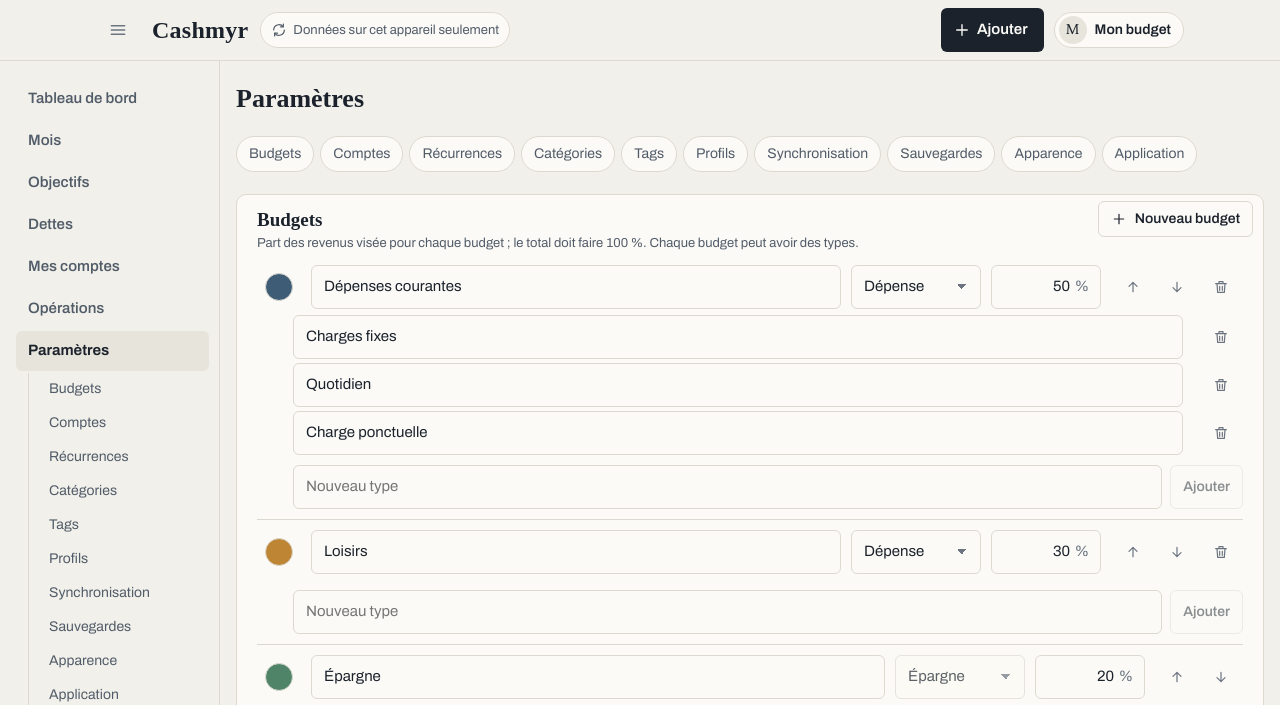
Test: budget › nouveau budget : un nom, une nature, 0 % ; ses types s'ajoutent et se renomment (décisions 71 et 72)
This screenshot has width=1280, height=705.
Click the button "Nouveau budget": (1175, 219) x1=1098 y1=201 x2=1253 y2=237
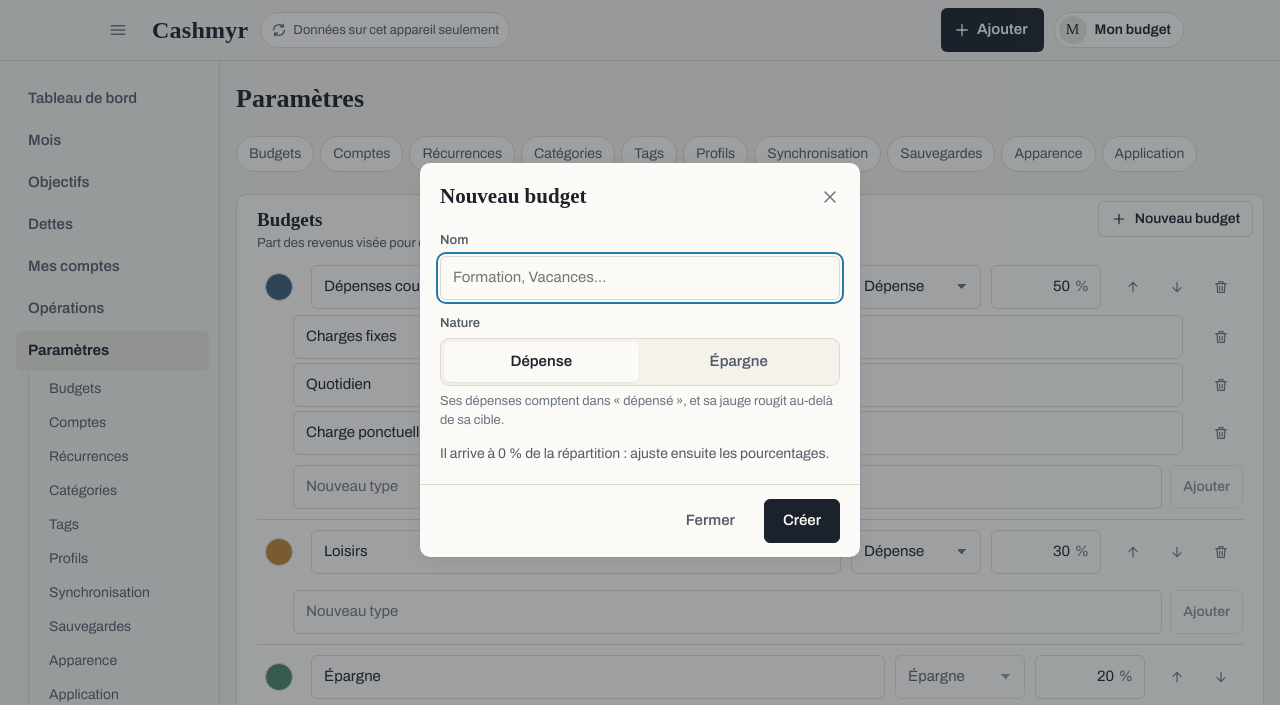
In the field labelled "Nom": (640, 278) x1=440 y1=256 x2=840 y2=300, type "Formation"
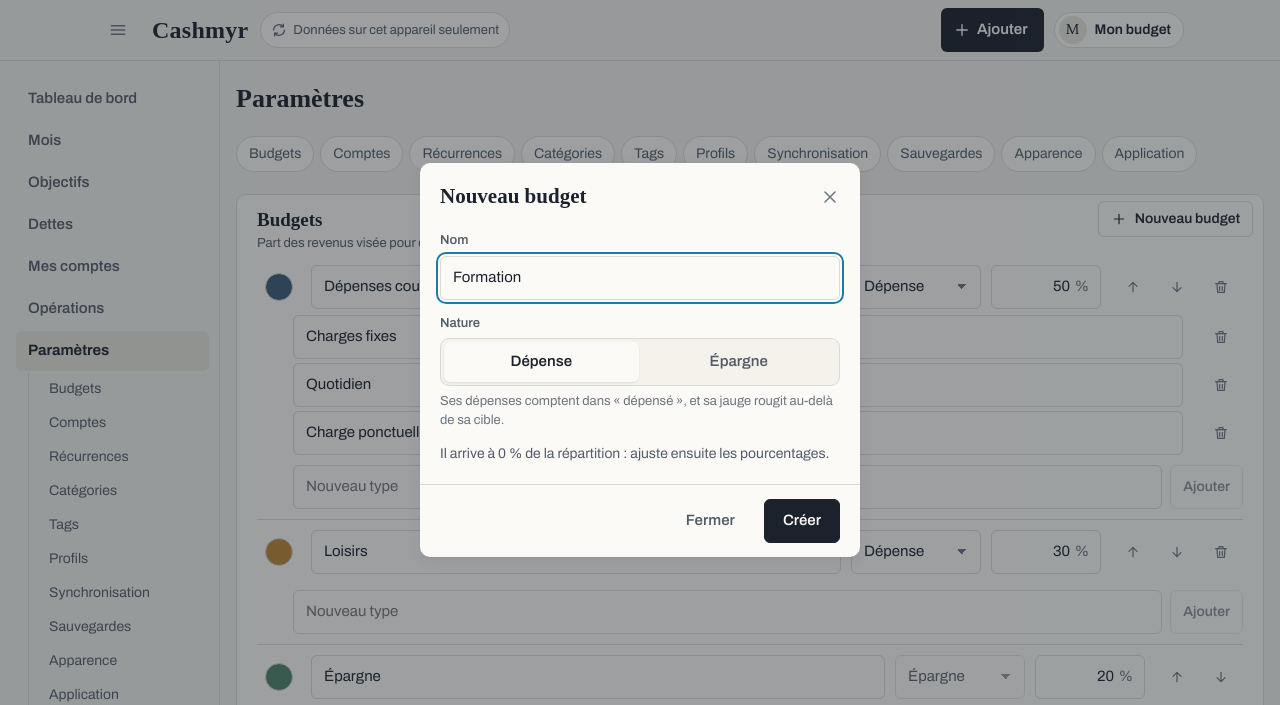
Click the radio button labelled "Épargne": (739, 362) x1=642 y1=342 x2=836 y2=382
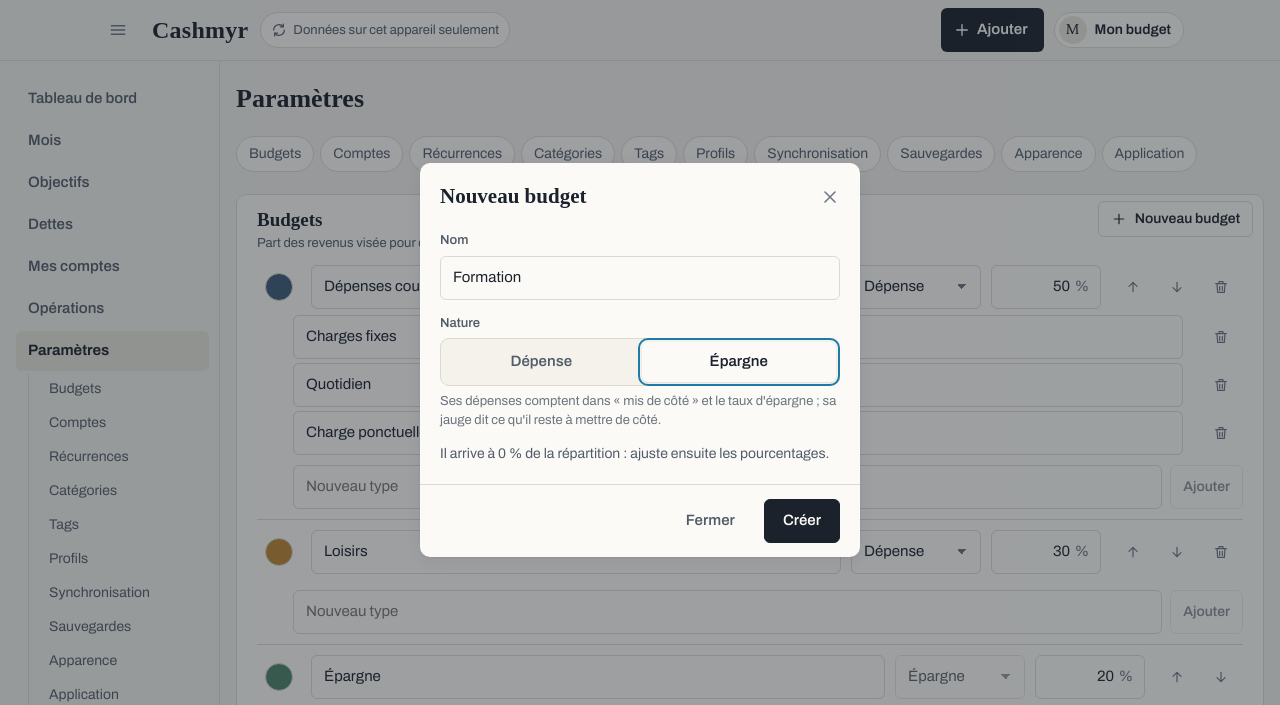
Click the button "Créer": (802, 521) x1=764 y1=499 x2=840 y2=543
(page scrolled)
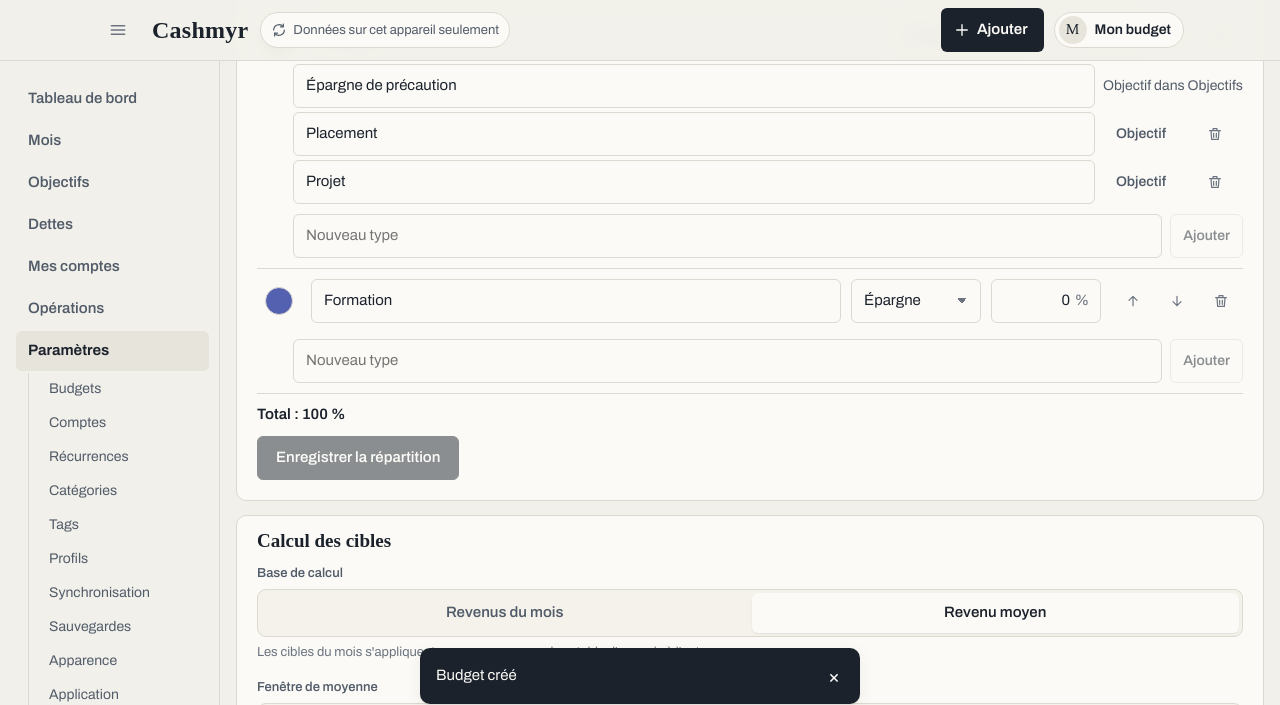
Expected: the field named "Part de « Formation »" holds "0", x1=991 y1=279 x2=1101 y2=323
In the field named "Nouveau type · Formation": (728, 361) x1=293 y1=339 x2=1162 y2=383, type "Cours"
Then press Enter
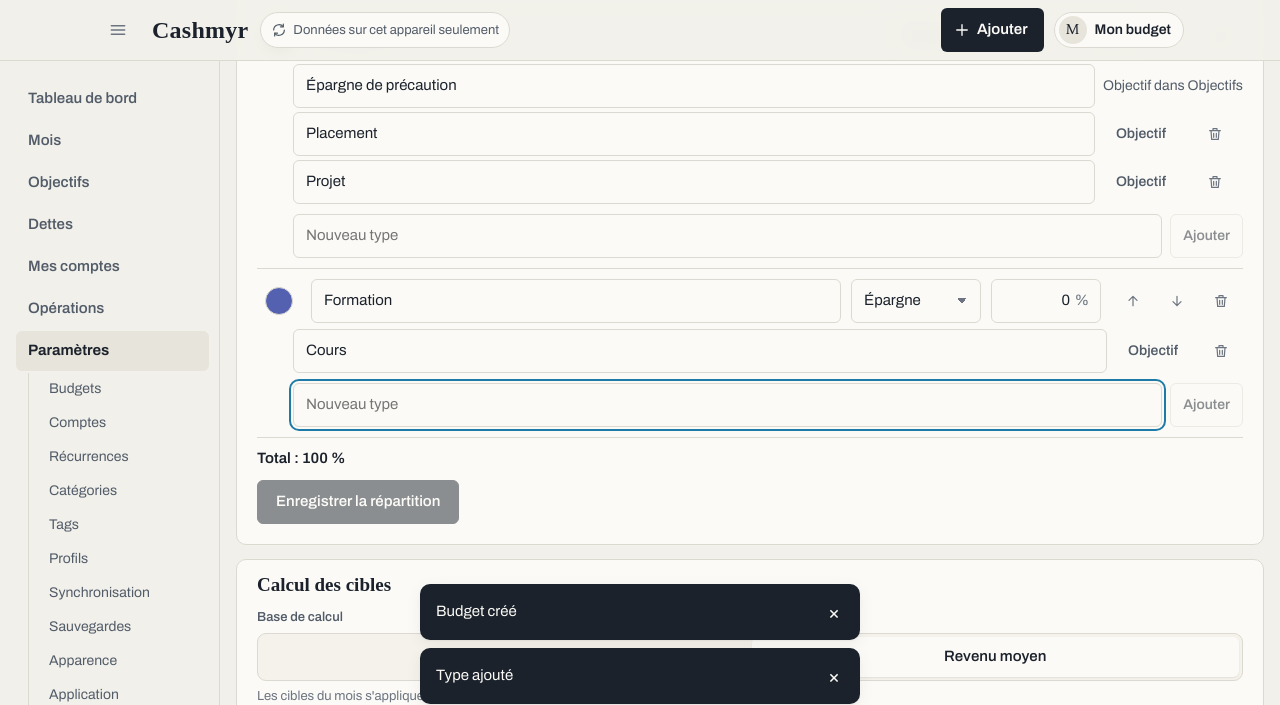
Replace the text in the field named "Nom du type « Cours »" with "Cours du soir": (700, 351) x1=293 y1=329 x2=1107 y2=373
Then press Enter
(page scrolled)
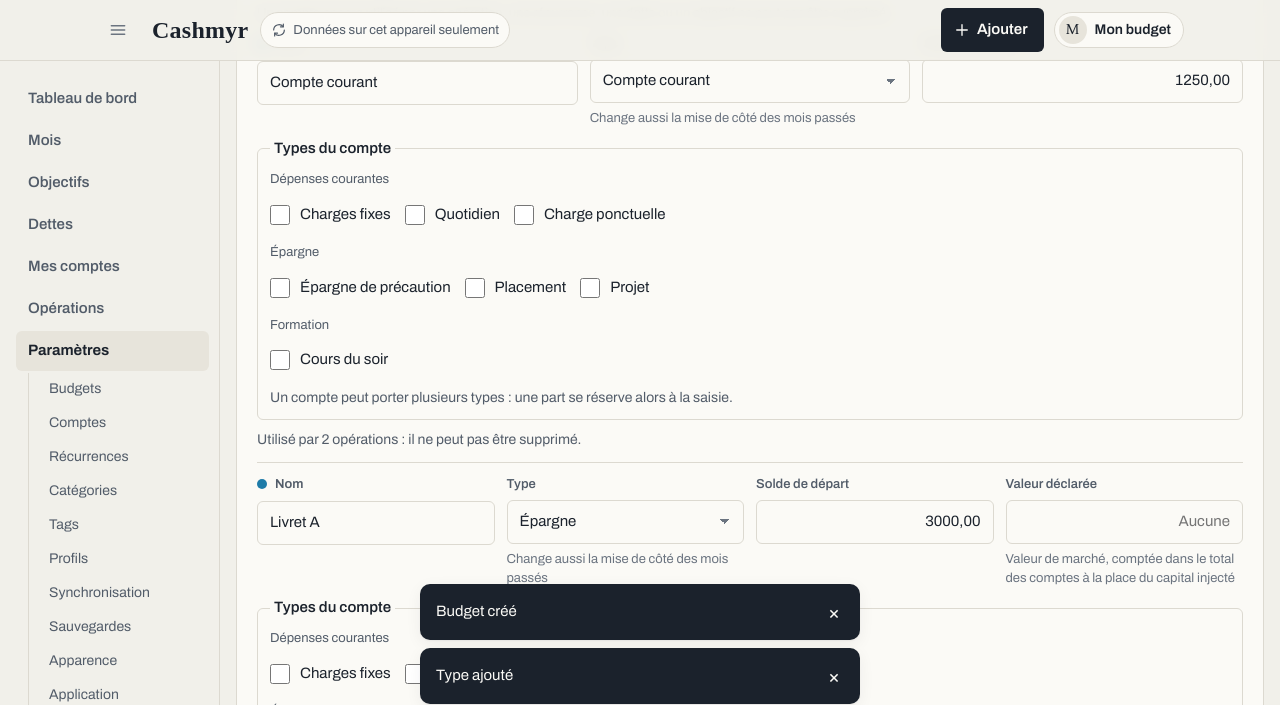
Expected: the text "Cours du soir" is shown, x1=300 y1=350 x2=388 y2=371
